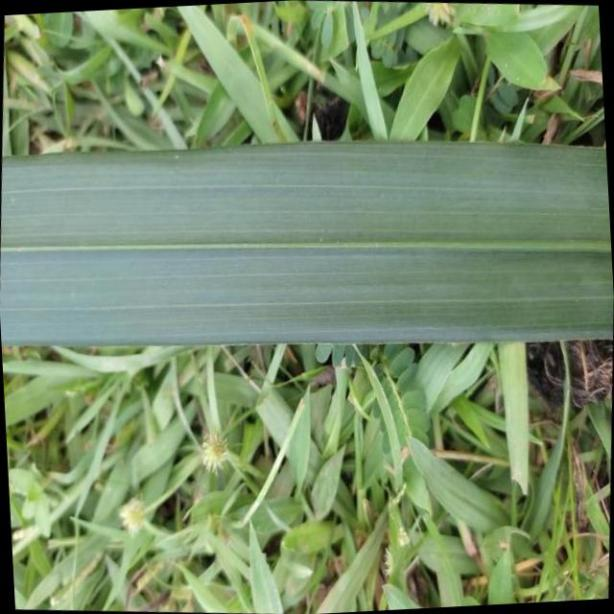Healthy: (0, 142, 614, 342)
